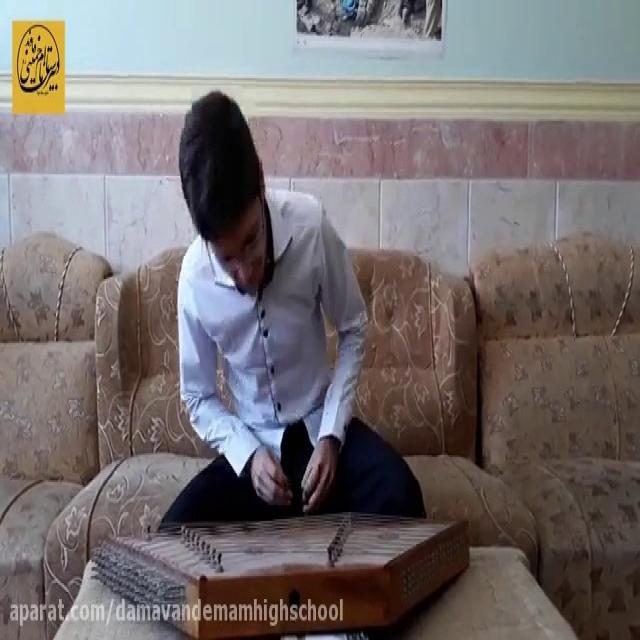Santur: (87, 516, 474, 634)
